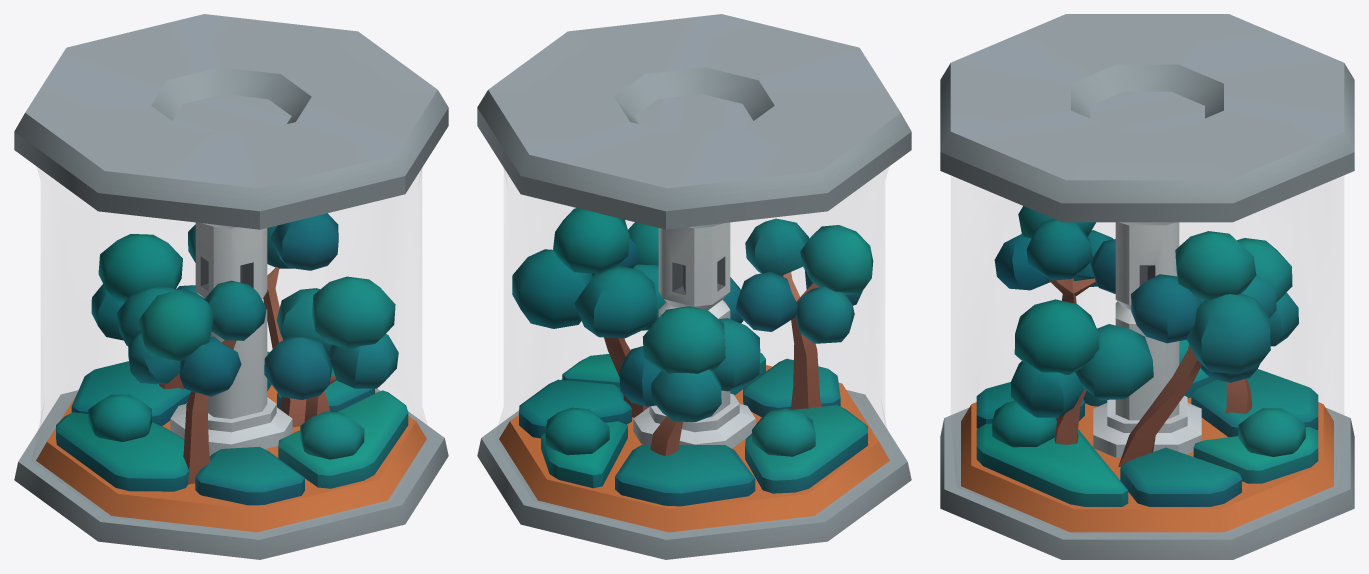
Rendered from eco_module.gltf.
The picture shows the model from 3 angles, left to right: view 1: azimuth 30°, elevation 25°; view 2: azimuth 150°, elevation 25°; view 3: azimuth 270°, elevation 25°; orthographic projection. The views are drawn at different scales.
Parts seen in each view (by area): view 1: eco_module; view 2: eco_module; view 3: eco_module.
Part boxes in pixels (bbox=[...]): eco_module: bbox=[14, 14, 448, 559]; eco_module: bbox=[477, 14, 911, 559]; eco_module: bbox=[940, 14, 1354, 559].
Size of the model in its own units: 2 by 2 by 2.
Materials: 2 (1 with a texture image).
